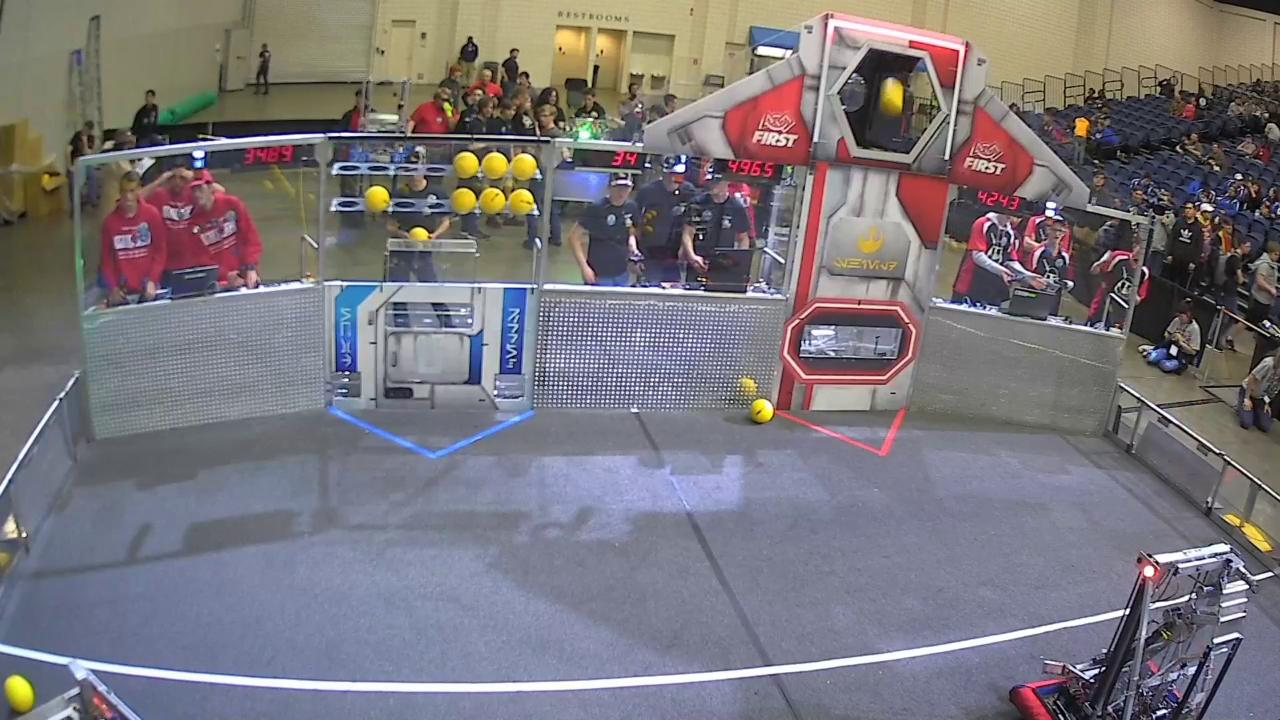robot: (1012, 538, 1249, 719)
